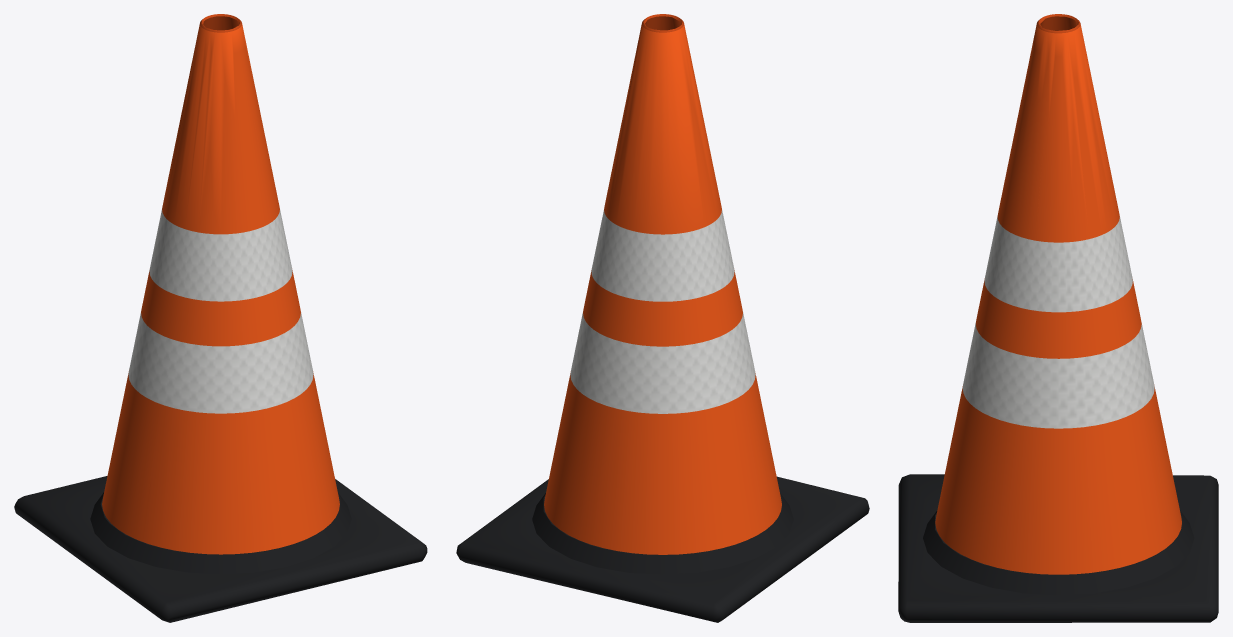
File: g3d_traffic_cone.glb
3 views of the same model, side by side, from view 1: azimuth 30°, elevation 25°; view 2: azimuth 150°, elevation 25°; view 3: azimuth 270°, elevation 25° (orthographic). The views are drawn at different scales.
Parts seen in each view (by area): view 1: traffic-cone_body, traffic-cone_base, traffic-cone_body_lo; view 2: traffic-cone_body, traffic-cone_base, traffic-cone_body_lo; view 3: traffic-cone_body, traffic-cone_base, traffic-cone_body_lo, traffic-cone_base_lo.
Boxes of the visible parts, x1,y1,x2,y2 form: traffic-cone_body: (102, 14, 339, 554); traffic-cone_base: (14, 476, 427, 622); traffic-cone_body_lo: (102, 14, 291, 552); traffic-cone_body: (544, 14, 781, 554); traffic-cone_base: (456, 476, 869, 622); traffic-cone_body_lo: (553, 14, 780, 547); traffic-cone_body: (935, 14, 1181, 574); traffic-cone_base: (898, 474, 1218, 622); traffic-cone_body_lo: (990, 14, 1156, 566); traffic-cone_base_lo: (930, 557, 1206, 604).
Bounding box in the file's own units: 0.3785 × 0.702 × 0.3795.
Materials: 4 (1 with a texture image).
